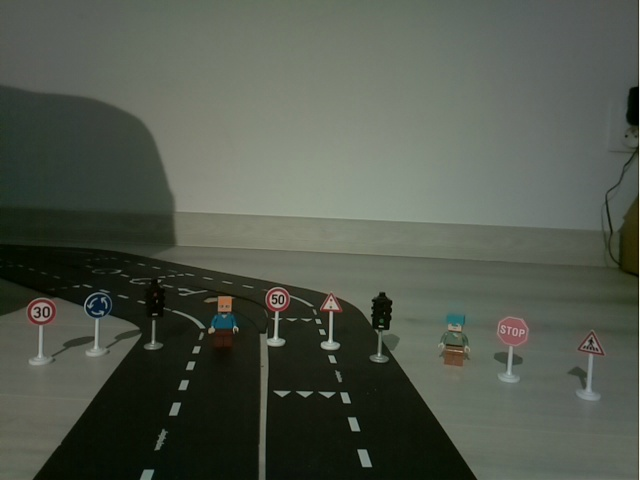green light: (362, 287, 397, 368)
limit 30: (21, 296, 61, 372)
limit 50: (257, 284, 294, 350)
pedestrian sign: (570, 326, 610, 406)
person: (202, 293, 244, 358)
red light: (133, 276, 172, 356)
round: (79, 290, 116, 359)
second person: (433, 304, 476, 380)
stop: (490, 313, 531, 387)
traffic light sign: (311, 288, 349, 354)
